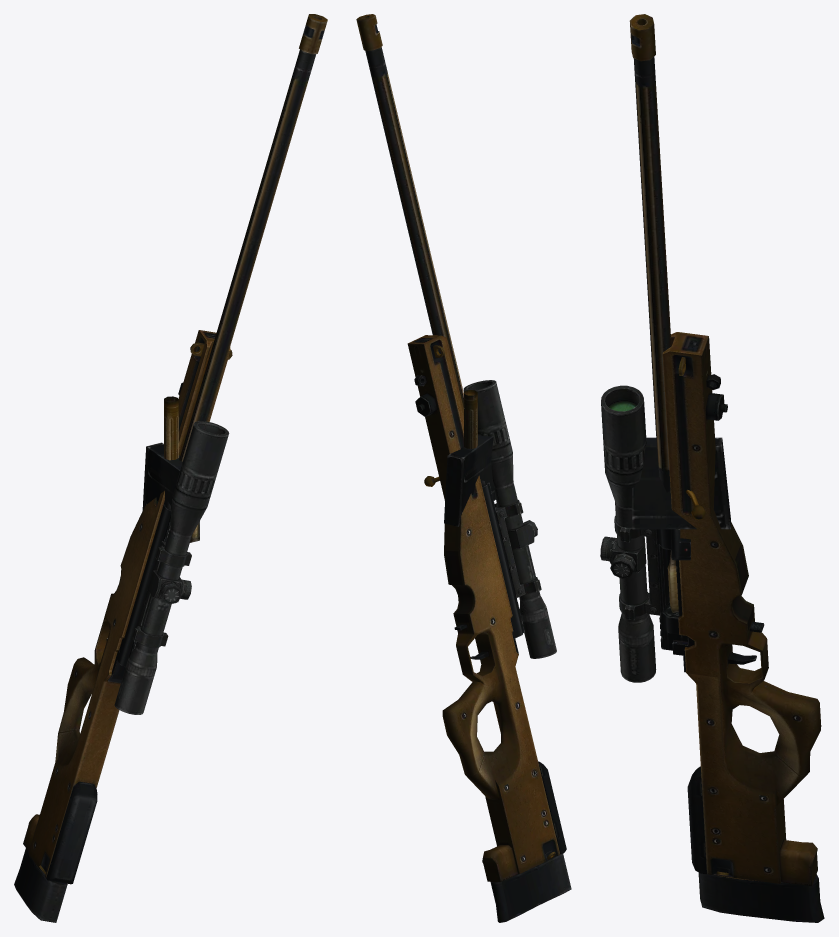
The model's file is L115A1_Gold.obj.
3 views of the same model, side by side, from view 1: azimuth 30°, elevation 25°; view 2: azimuth 150°, elevation 25°; view 3: azimuth 270°, elevation 25° (orthographic). The views are drawn at different scales.
Parts seen in each view (by area): view 1: Model_L115A1_Gold, Model_L115A1scope, Model_Magazine, Model_Handle01; view 2: Model_L115A1_Gold, Model_L115A1scope, Model_Magazine, Model_Handle01; view 3: Model_L115A1_Gold, Model_L115A1scope, Model_Magazine, Model_Handle02.
Part boxes in pixels (bbox=[...]): Model_L115A1_Gold: bbox=[14, 14, 327, 922]; Model_L115A1scope: bbox=[114, 421, 229, 714]; Model_Magazine: bbox=[142, 442, 199, 542]; Model_Handle01: bbox=[164, 396, 178, 460]; Model_L115A1_Gold: bbox=[356, 14, 571, 922]; Model_L115A1scope: bbox=[463, 380, 556, 658]; Model_Magazine: bbox=[444, 434, 495, 526]; Model_Handle01: bbox=[424, 390, 477, 486]; Model_L115A1_Gold: bbox=[629, 14, 824, 922]; Model_L115A1scope: bbox=[600, 385, 661, 682]; Model_Magazine: bbox=[632, 437, 730, 529]; Model_Handle02: bbox=[671, 528, 690, 560].
Bounding box in the file's own units: 0.3826 × 1.23 × 0.2437.
Materials: 2 (2 with a texture image).
